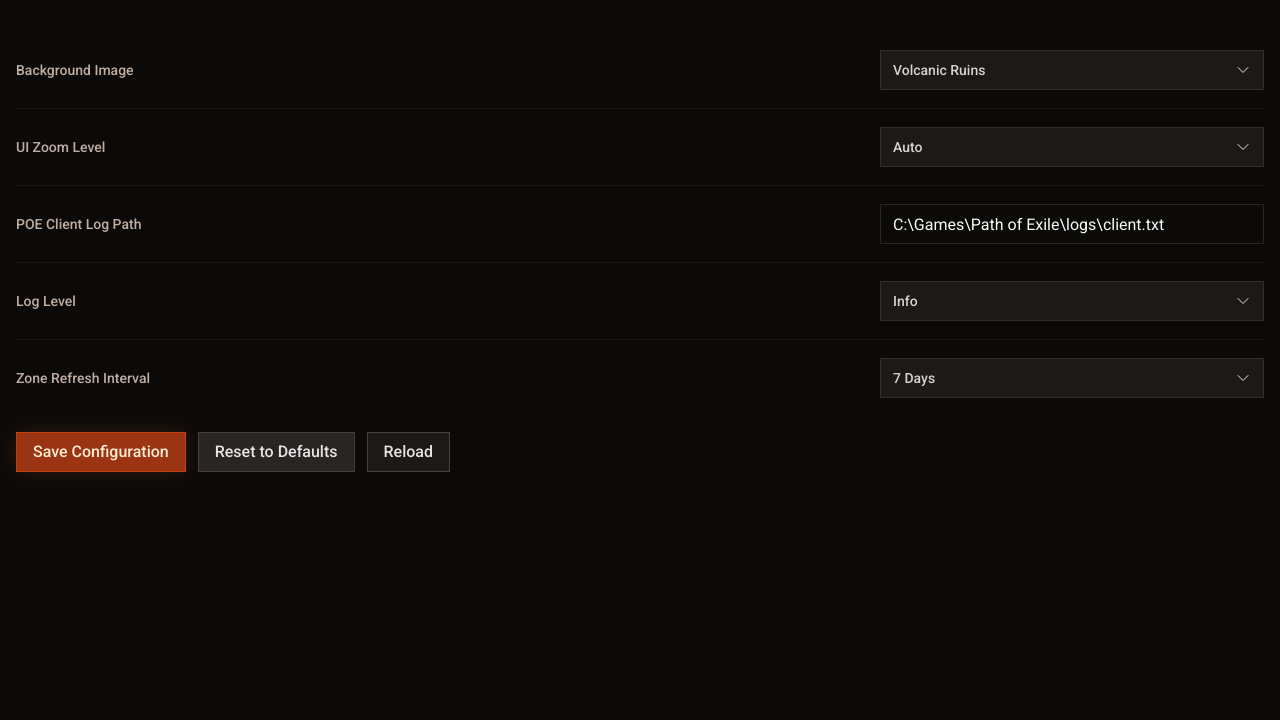
SettingsForm › Save Configuration › saves config and shows success message
Click the button "Save Configuration".
click(101, 452)  # box [16,432,186,472]
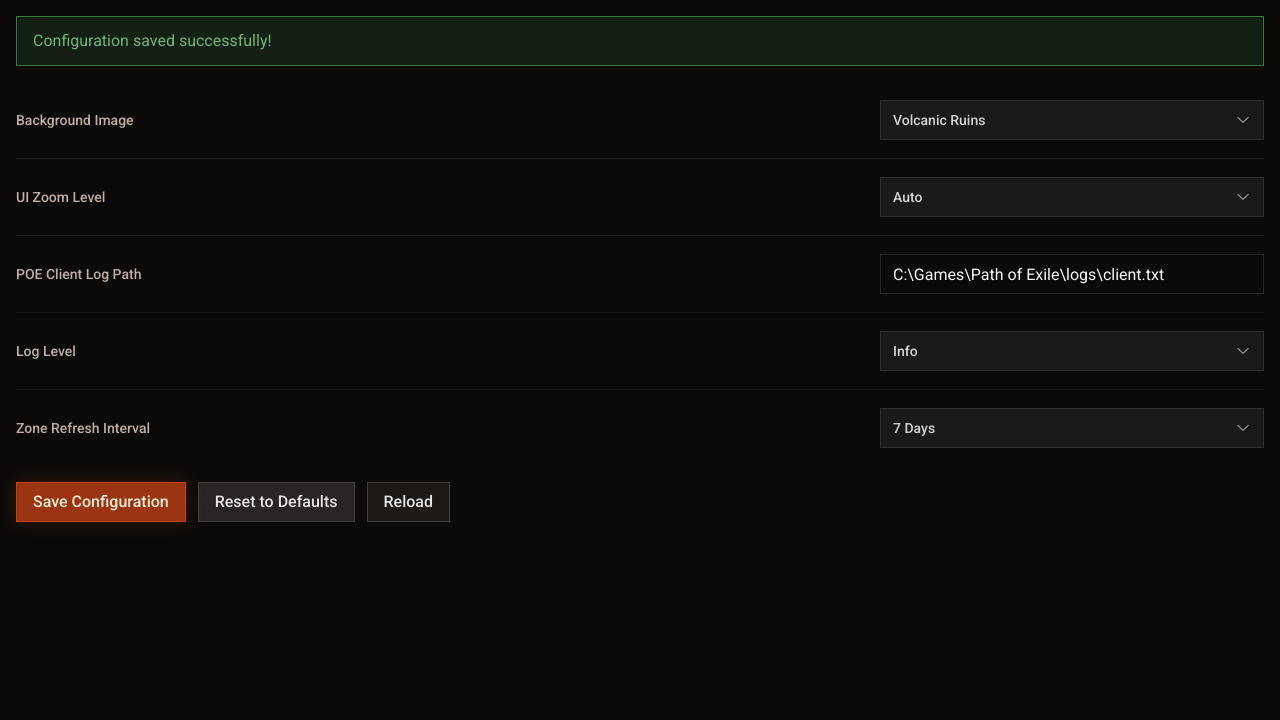
Now the text "Configuration saved successfully!" is shown, box [16,16,1264,66]
